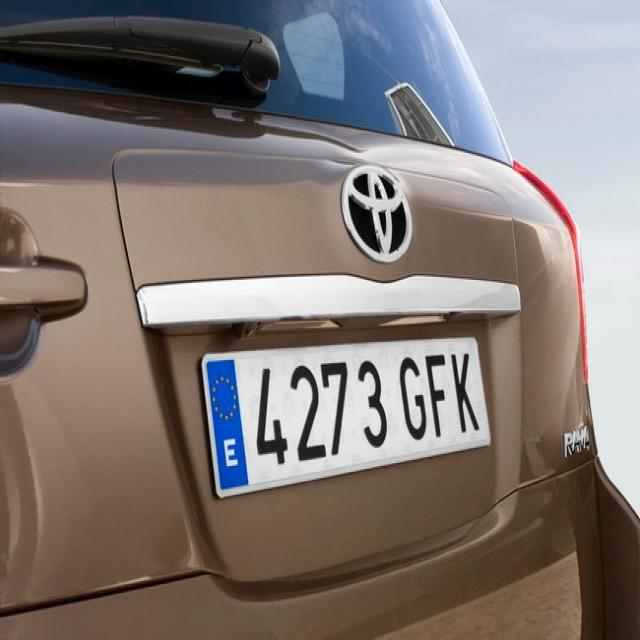license_plate-34Td: (201, 339, 489, 496)
